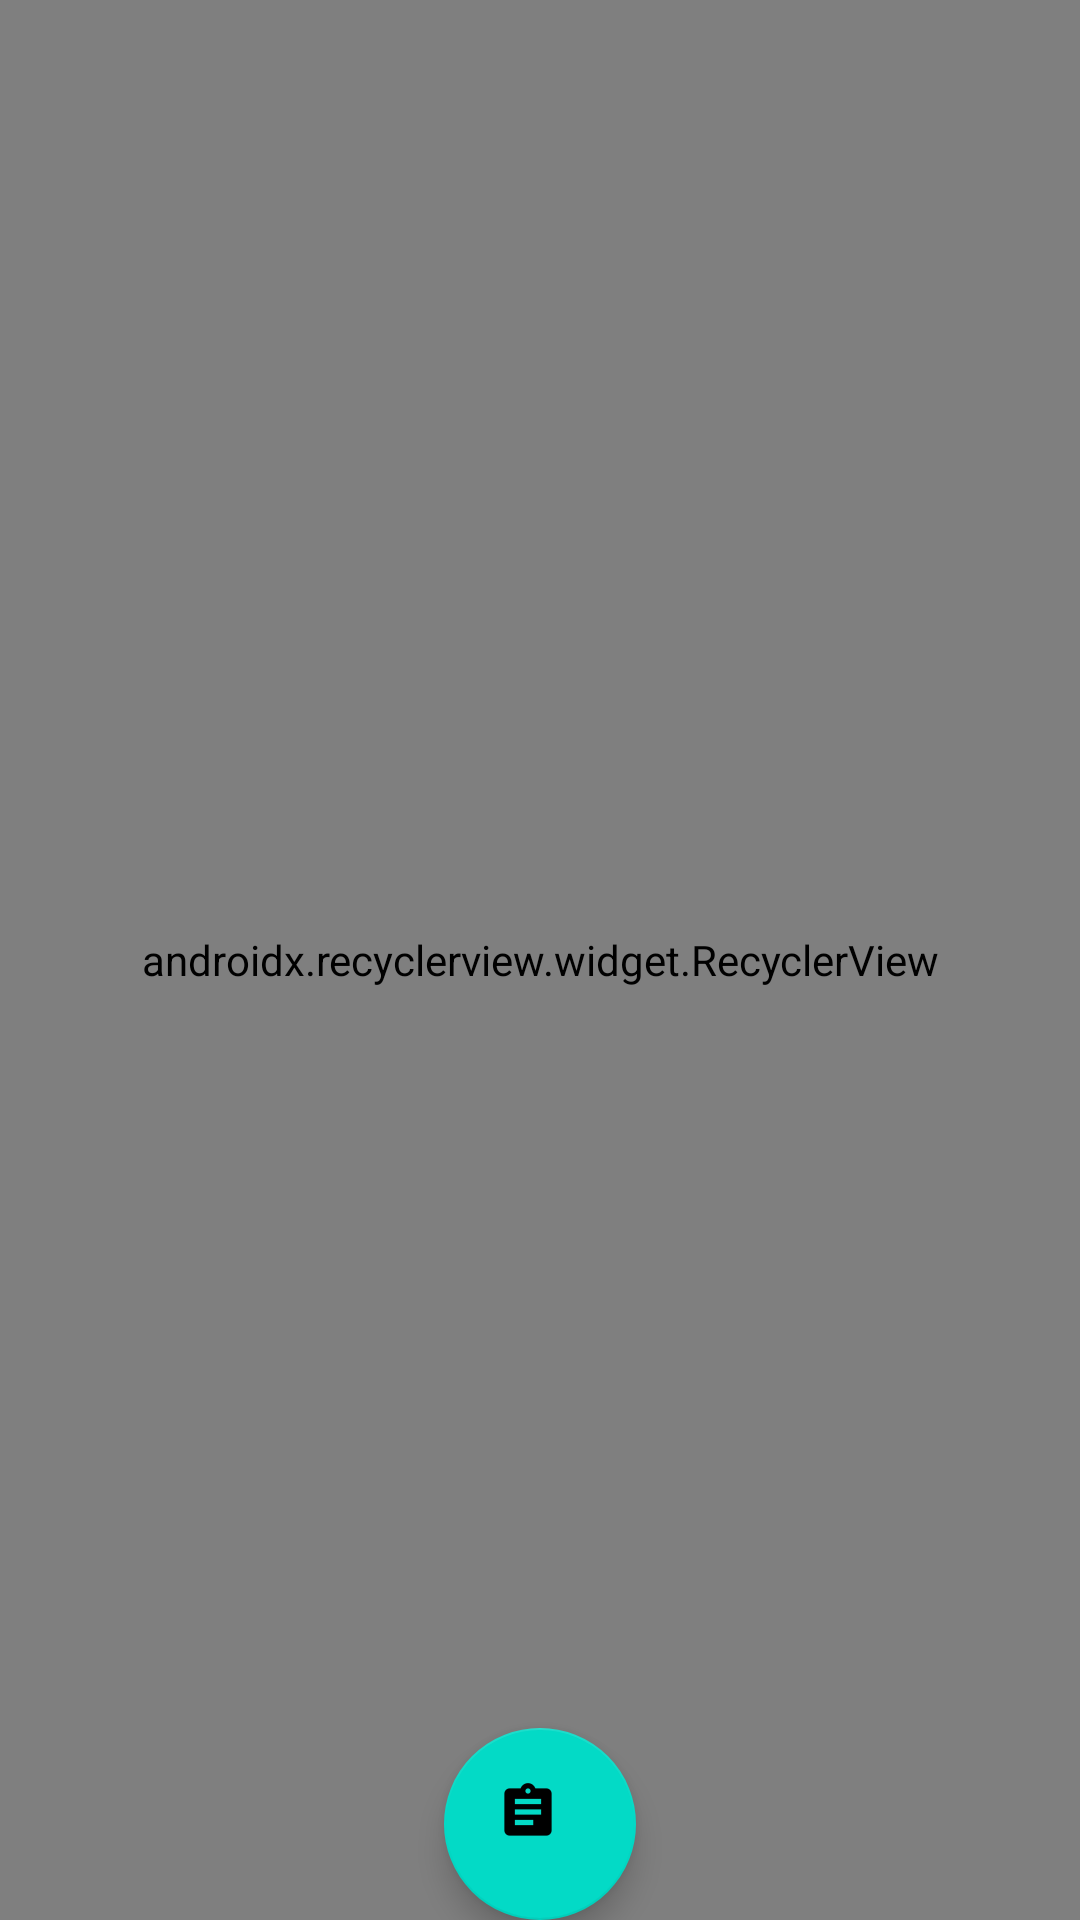

Icon click points for this 1080px x 1920px phone screenshot, format [x,y]:
notes: [540,1824]
